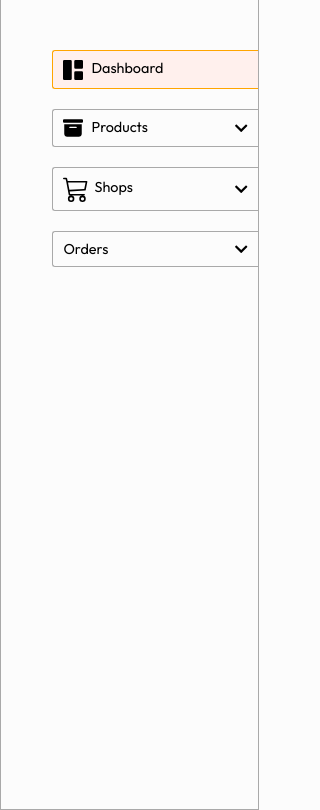
Test case: Sidebar Component › toggles shops dropdown for staff
The width and height of the screenshot is (320, 810).
Click the text "Shops": [98, 189] box left=63, top=176, right=133, bottom=202
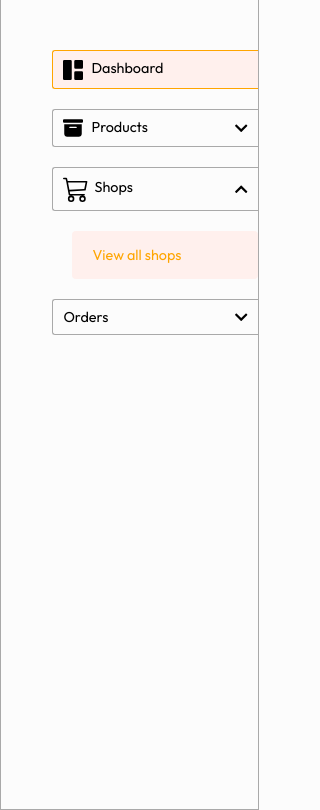
expect the text "View all shops" is shown: met, box left=92, top=246, right=181, bottom=264
